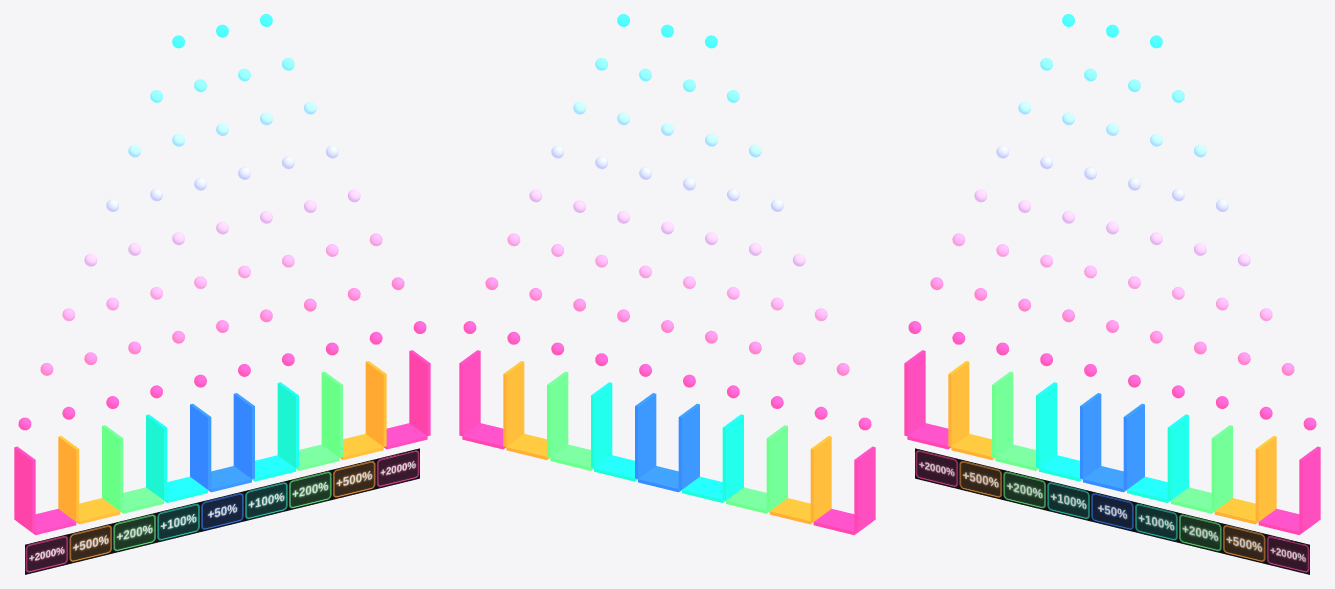
File: bonus_plinko.glb
3 renders of one model, left to right at view 1: azimuth 30°, elevation 25°; view 2: azimuth 150°, elevation 25°; view 3: azimuth 330°, elevation 25°, orthographic.
Parts seen in each view (by area): view 1: Labels, Pockets#ff3d9a, Pockets#19e0c0, Pockets#ff9a2e, Pockets#5dff7a, Pockets#2f7bff, Pegs7, Pegs6, Pegs5, Pegs4, Pegs3, Pegs2 (+1 smaller); view 2: Pockets#ff3d9a, Pockets#19e0c0, Pockets#ff9a2e, Pockets#5dff7a, Pockets#2f7bff, Pegs7, Pegs6, Pegs5, Pegs4, Pegs3, Pegs2, Pegs1; view 3: Labels, Pockets#ff3d9a, Pockets#19e0c0, Pockets#ff9a2e, Pockets#5dff7a, Pockets#2f7bff, Pegs7, Pegs6, Pegs5, Pegs4, Pegs3, Pegs2 (+1 smaller).
Boxes of the visible parts, x1,y1,x2,y2 form: Labels: [25, 448, 419, 574]; Pockets#ff3d9a: [14, 350, 430, 535]; Pockets#19e0c0: [146, 382, 298, 502]; Pockets#ff9a2e: [58, 361, 386, 524]; Pockets#5dff7a: [102, 371, 342, 513]; Pockets#2f7bff: [190, 393, 254, 492]; Pegs7: [18, 321, 426, 430]; Pegs6: [40, 277, 404, 375]; Pegs5: [62, 233, 382, 321]; Pegs4: [84, 189, 360, 266]; Pegs3: [106, 145, 338, 211]; Pegs2: [128, 101, 316, 157]; Pockets#ff3d9a: [459, 350, 875, 535]; Pockets#19e0c0: [591, 382, 743, 502]; Pockets#ff9a2e: [503, 361, 831, 524]; Pockets#5dff7a: [547, 371, 787, 513]; Pockets#2f7bff: [635, 393, 699, 492]; Pegs7: [463, 321, 871, 430]; Pegs6: [485, 277, 849, 375]; Pegs5: [507, 233, 827, 321]; Pegs4: [529, 189, 805, 266]; Pegs3: [551, 145, 783, 211]; Pegs2: [573, 101, 761, 157]; Pegs1: [595, 58, 739, 102]; Labels: [915, 448, 1309, 574]; Pockets#ff3d9a: [904, 350, 1320, 535]; Pockets#19e0c0: [1036, 382, 1188, 502]; Pockets#ff9a2e: [948, 361, 1276, 524]; Pockets#5dff7a: [992, 371, 1232, 513]; Pockets#2f7bff: [1080, 393, 1144, 492]; Pegs7: [908, 321, 1316, 430]; Pegs6: [930, 277, 1294, 375]; Pegs5: [952, 233, 1272, 321]; Pegs4: [974, 189, 1250, 266]; Pegs3: [996, 145, 1228, 211]; Pegs2: [1018, 101, 1206, 157].
Bounding box in the file's own units: 0.648 × 0.7641 × 0.05.
Materials: 14 (1 with a texture image).
